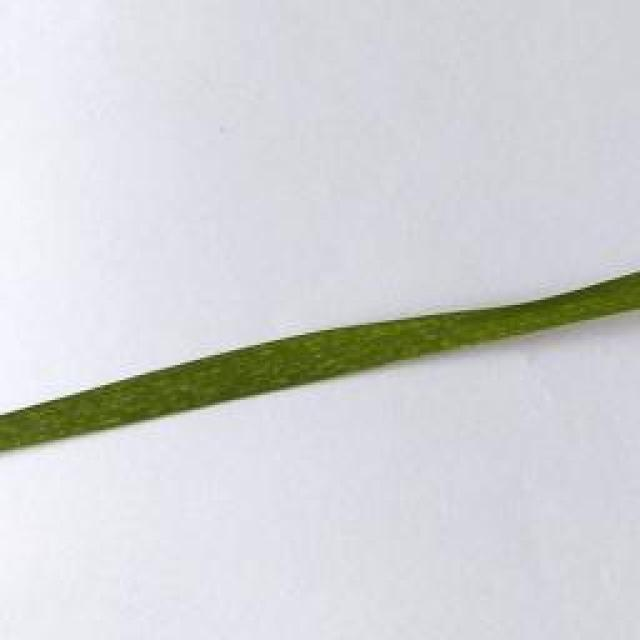Healthy-Plant: (0, 273, 640, 456)
